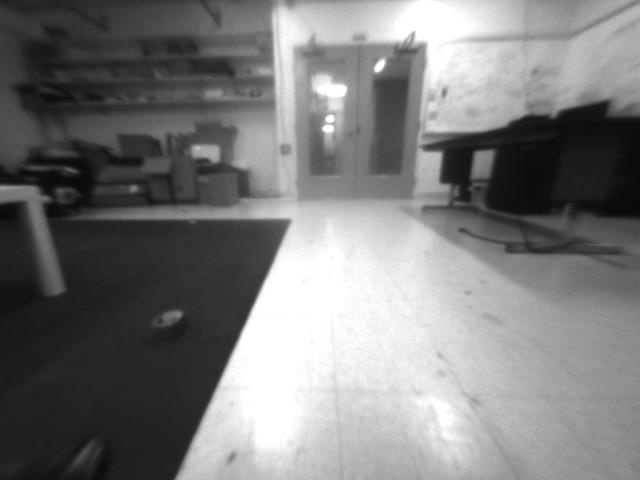dogtoy: (145, 306, 192, 338)
